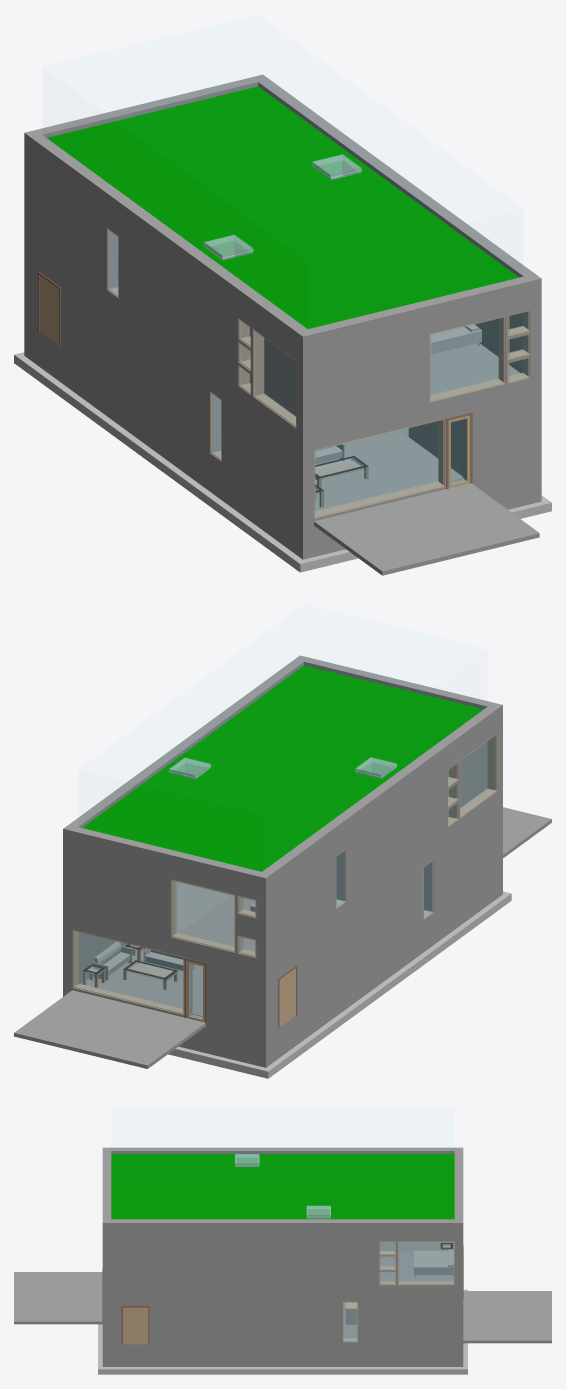
3 views of the same model, one above another, from view 1: azimuth 30°, elevation 25°; view 2: azimuth 150°, elevation 25°; view 3: azimuth 270°, elevation 25° (orthographic). The views are drawn at different scales.
Visible parts, largest first — view 1: 3ThA22djr8AQQ9eQMA5s7I, 2O2Fr$t4X7Zf8NOew3FLPP, 2O2Fr$t4X7Zf8NOew3FNhv, 2O2Fr$t4X7Zf8NOew3FLOH, 1CZILmCaHETO8tf3SgGEXu, 2O2Fr$t4X7Zf8NOew3FNr2, 2O2Fr$t4X7Zf8NOew3FKE5, 0jf0rYHfX3RAB3bSIRjmr1, 2OBrcmyk58NupXoVOHUtxr, 0jf0rYHfX3RAB3bSIRjmoa, 0jf0rYHfX3RAB3bSIRjmpw, 0kF45Qs8L9PAM9kmb1lT5t (+18 smaller); view 2: 3ThA22djr8AQQ9eQMA5s7I, 2O2Fr$t4X7Zf8NOew3FLPP, 2O2Fr$t4X7Zf8NOew3FNhv, 2O2Fr$t4X7Zf8NOew3FLQD, 2O2Fr$t4X7Zf8NOew3FNtn, 1CZILmCaHETO8tf3SgGEWh, 2O2Fr$t4X7Zf8NOew3FKE5, 0jf0rYHfX3RAB3bSIRjmr1, 0jf0rYHfX3RAB3bSIRjmmy, 0kF45Qs8L9PAM9kmb1lT5t, 0jf0rYHfX3RAB3bSIRjmpw, 2OBrcmyk58NupXoVOHUtgP (+19 smaller); view 3: 3ThA22djr8AQQ9eQMA5s7I, 2O2Fr$t4X7Zf8NOew3FNqI, 2O2Fr$t4X7Zf8NOew3FLR9, 2O2Fr$t4X7Zf8NOew3FK9N, 0jf0rYHfX3RAB3bSIRjmpw, 1CZILmCaHETO8tf3SgGEWh, 1CZILmCaHETO8tf3SgGEXu, 0kF45Qs8L9PAM9kmb1lT5d, 0jf0rYHfX3RAB3bSIRjmr1, 1hOSvn6df7F8_7GcBWlRGQ, 2OBrcmyk58NupXoVOHUtDX, 2OBrcmyk58NupXoVOHUtI8 (+6 smaller).
Part boxes in pixels (bbox=[...]): 3ThA22djr8AQQ9eQMA5s7I: bbox=[47, 86, 518, 328]; 2O2Fr$t4X7Zf8NOew3FLPP: bbox=[24, 150, 302, 435]; 2O2Fr$t4X7Zf8NOew3FNhv: bbox=[31, 237, 296, 518]; 2O2Fr$t4X7Zf8NOew3FLOH: bbox=[303, 296, 541, 436]; 1CZILmCaHETO8tf3SgGEXu: bbox=[314, 483, 539, 575]; 2O2Fr$t4X7Zf8NOew3FNr2: bbox=[296, 381, 530, 524]; 2O2Fr$t4X7Zf8NOew3FKE5: bbox=[31, 325, 296, 554]; 0jf0rYHfX3RAB3bSIRjmr1: bbox=[31, 135, 307, 348]; 2OBrcmyk58NupXoVOHUtxr: bbox=[315, 428, 463, 511]; 0jf0rYHfX3RAB3bSIRjmoa: bbox=[296, 276, 530, 353]; 0jf0rYHfX3RAB3bSIRjmpw: bbox=[258, 79, 541, 298]; 0kF45Qs8L9PAM9kmb1lT5t: bbox=[14, 352, 292, 561]; 3ThA22djr8AQQ9eQMA5s7I: bbox=[82, 665, 483, 871]; 2O2Fr$t4X7Zf8NOew3FLPP: bbox=[266, 720, 502, 962]; 2O2Fr$t4X7Zf8NOew3FNhv: bbox=[271, 794, 497, 1032]; 2O2Fr$t4X7Zf8NOew3FLQD: bbox=[63, 843, 265, 962]; 2O2Fr$t4X7Zf8NOew3FNtn: bbox=[63, 913, 271, 1037]; 1CZILmCaHETO8tf3SgGEWh: bbox=[14, 990, 205, 1068]; 2O2Fr$t4X7Zf8NOew3FKE5: bbox=[271, 869, 497, 1063]; 0jf0rYHfX3RAB3bSIRjmr1: bbox=[262, 706, 497, 888]; 0jf0rYHfX3RAB3bSIRjmmy: bbox=[63, 825, 271, 892]; 0kF45Qs8L9PAM9kmb1lT5t: bbox=[247, 901, 499, 1078]; 0jf0rYHfX3RAB3bSIRjmpw: bbox=[69, 655, 309, 827]; 2OBrcmyk58NupXoVOHUtgP: bbox=[81, 949, 202, 1016]; 3ThA22djr8AQQ9eQMA5s7I: bbox=[111, 1154, 454, 1219]; 2O2Fr$t4X7Zf8NOew3FNqI: bbox=[102, 1287, 454, 1344]; 2O2Fr$t4X7Zf8NOew3FLR9: bbox=[102, 1234, 463, 1287]; 2O2Fr$t4X7Zf8NOew3FK9N: bbox=[102, 1344, 454, 1366]; 0jf0rYHfX3RAB3bSIRjmpw: bbox=[102, 1219, 454, 1233]; 1CZILmCaHETO8tf3SgGEWh: bbox=[463, 1291, 551, 1343]; 1CZILmCaHETO8tf3SgGEXu: bbox=[14, 1272, 102, 1324]; 0kF45Qs8L9PAM9kmb1lT5d: bbox=[98, 1361, 467, 1374]; 0jf0rYHfX3RAB3bSIRjmr1: bbox=[111, 1147, 454, 1153]; 1hOSvn6df7F8_7GcBWlRGQ: bbox=[121, 1306, 149, 1344]; 2OBrcmyk58NupXoVOHUtDX: bbox=[380, 1251, 453, 1281]; 2OBrcmyk58NupXoVOHUtI8: bbox=[414, 1249, 453, 1276].
Bounding box in the file's own units: 9.28 × 10.55 × 26.57.
